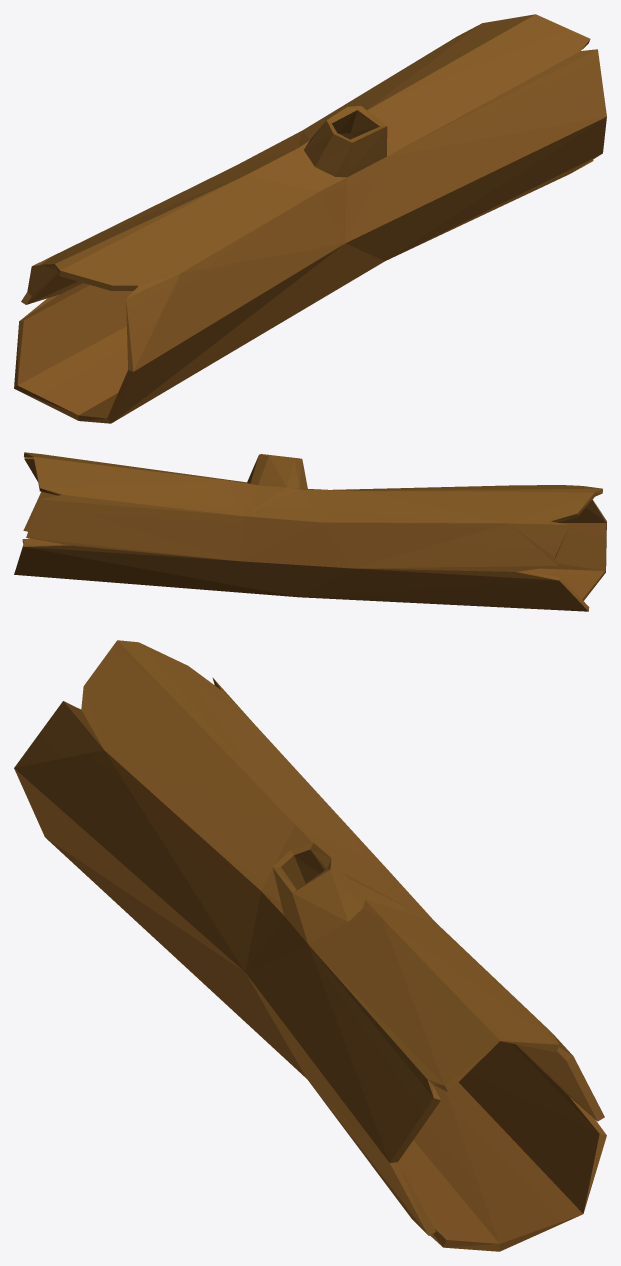
The model's file is tronco.obj.
3 renders of one model, top to bottom at view 1: azimuth 30°, elevation 25°; view 2: azimuth 150°, elevation 25°; view 3: azimuth 270°, elevation 25°, orthographic. The views are drawn at different scales.
Parts seen in each view (by area): view 1: polySurface216 uploads_files_2262359_NatureGradientPack:Mesh; view 2: polySurface216 uploads_files_2262359_NatureGradientPack:Mesh; view 3: polySurface216 uploads_files_2262359_NatureGradientPack:Mesh.
Boxes of the visible parts, x1=… form: polySurface216 uploads_files_2262359_NatureGradientPack:Mesh: x1=14, y1=14, x2=606, y2=423; polySurface216 uploads_files_2262359_NatureGradientPack:Mesh: x1=14, y1=452, x2=606, y2=611; polySurface216 uploads_files_2262359_NatureGradientPack:Mesh: x1=14, y1=640, x2=606, y2=1251.
Size of the model in its own units: 3 by 0.7511 by 1.74.
Materials: 1 (1 with a texture image).
